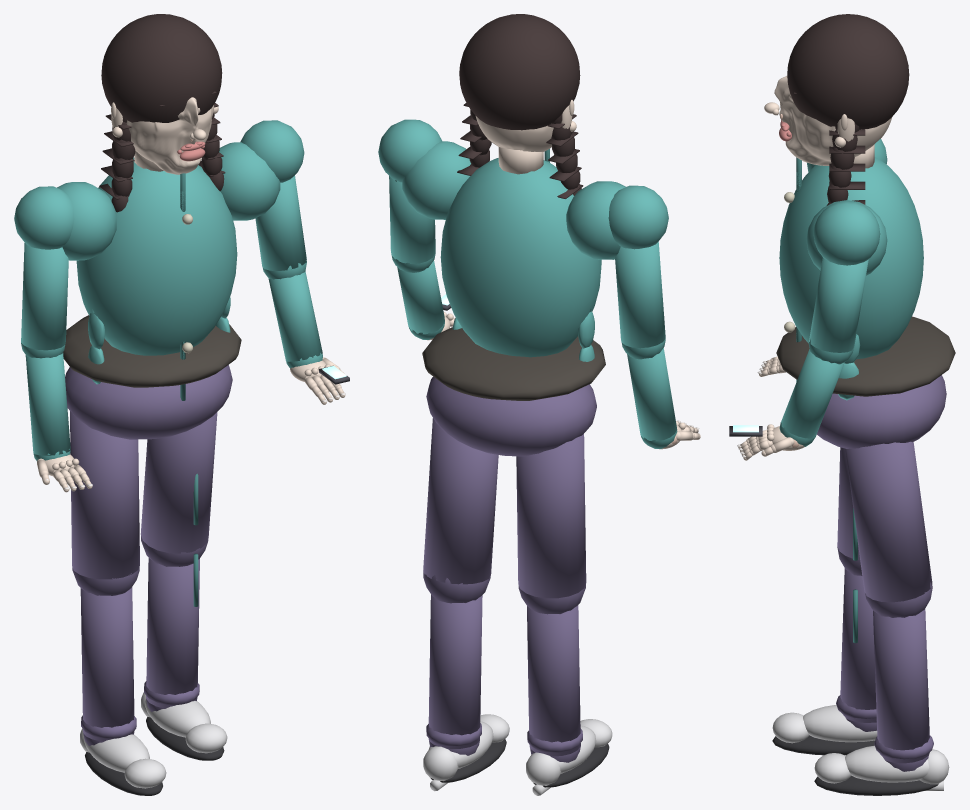
Rendered from hm_ped_suki_v9.glb.
3 renders of one model, left to right at view 1: azimuth 30°, elevation 25°; view 2: azimuth 150°, elevation 25°; view 3: azimuth 270°, elevation 25°, orthographic.
Parts seen in each view (by area): view 1: hm_ped_suki; view 2: hm_ped_suki; view 3: hm_ped_suki.
Part boxes in pixels (left/top/right/bottom): hm_ped_suki: left=14, top=14, right=349, bottom=795; hm_ped_suki: left=378, top=14, right=700, bottom=795; hm_ped_suki: left=729, top=14, right=955, bottom=795.
Size of the model in its own units: 0.7142 by 1.74 by 0.4747.
